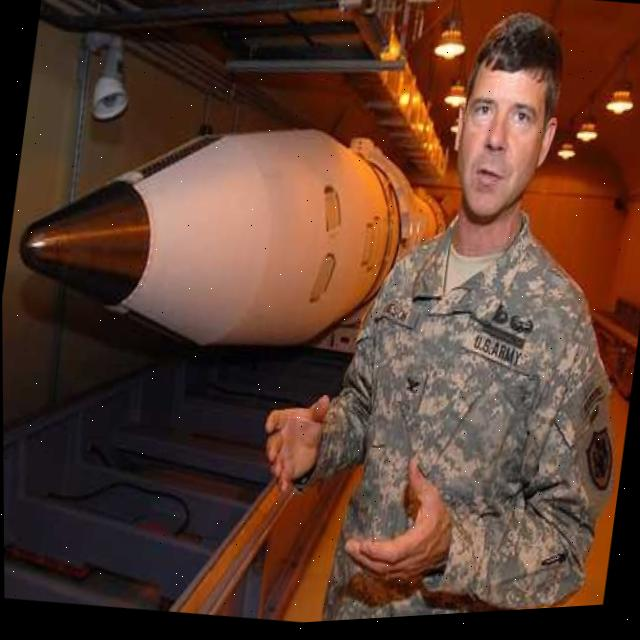missile: (7, 76, 450, 402)
